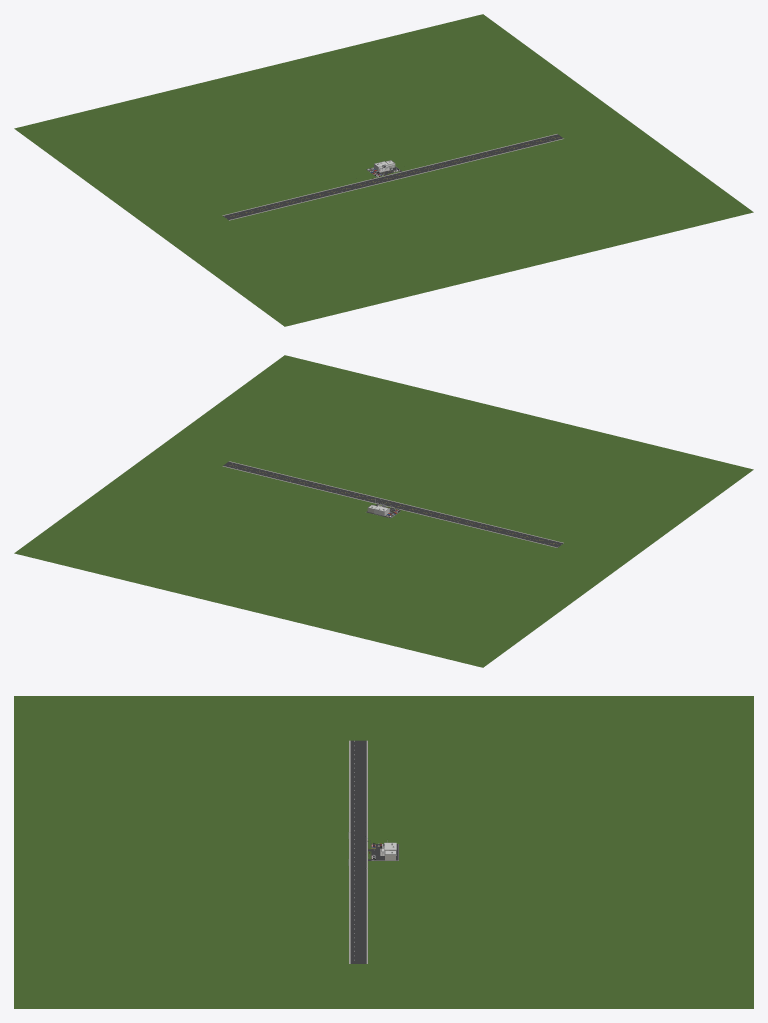
The model's file is dealership.glb.
The picture shows the model from 3 angles, top to bottom: view 1: azimuth 30°, elevation 25°; view 2: azimuth 150°, elevation 25°; view 3: azimuth 270°, elevation 25°; orthographic projection. The views are drawn at different scales.
Parts seen in each view (by area): view 1: static:grass, static:asphalt, static:concrete; view 2: static:grass, static:asphalt, static:concrete; view 3: static:grass, static:asphalt, static:concrete.
Part boxes in pixels (x1,y1,x2,y2): static:grass: [14, 14, 753, 326]; static:asphalt: [223, 134, 563, 219]; static:concrete: [222, 134, 563, 220]; static:grass: [14, 355, 753, 667]; static:asphalt: [223, 461, 563, 547]; static:concrete: [222, 461, 563, 547]; static:grass: [14, 696, 753, 1008]; static:asphalt: [350, 740, 398, 963]; static:concrete: [349, 740, 398, 963].
Bounding box in the file's own units: 853 × 9.36 × 853.
